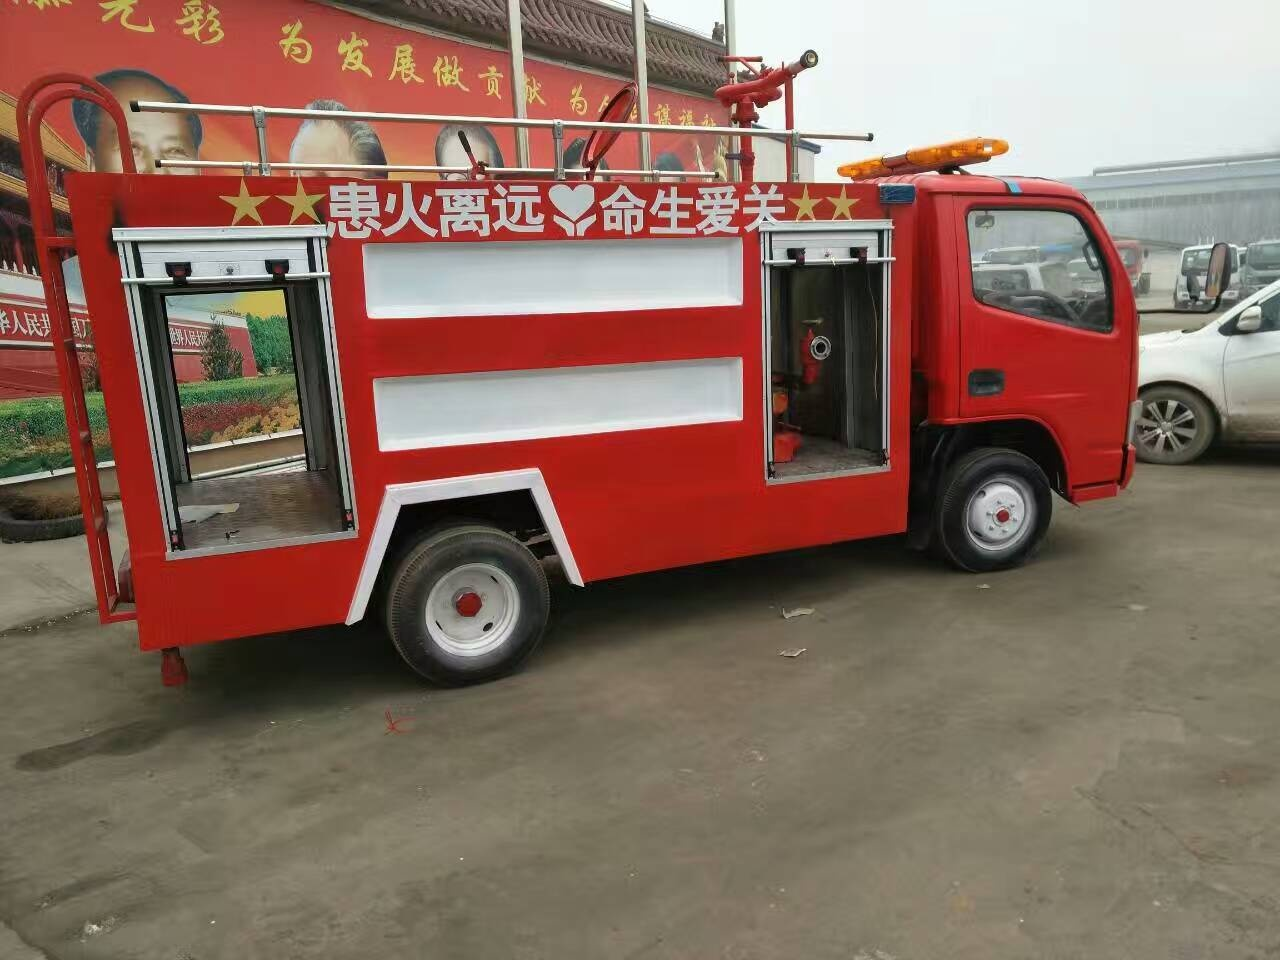fire engine: (18, 67, 1159, 682)
